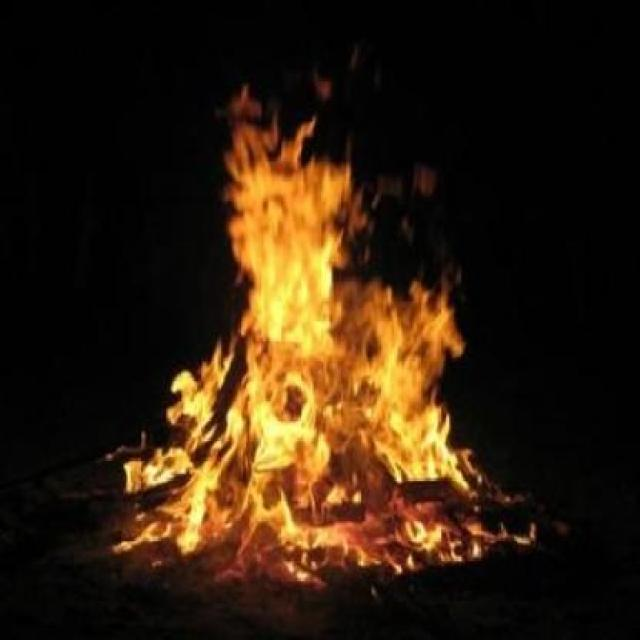Fire: (108, 61, 544, 600)
